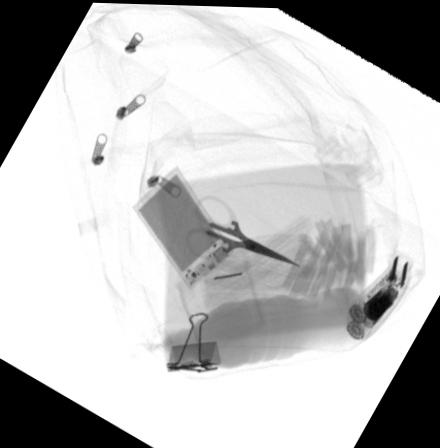Powerbank: (128, 163, 238, 295)
Scissors: (185, 193, 305, 266)
